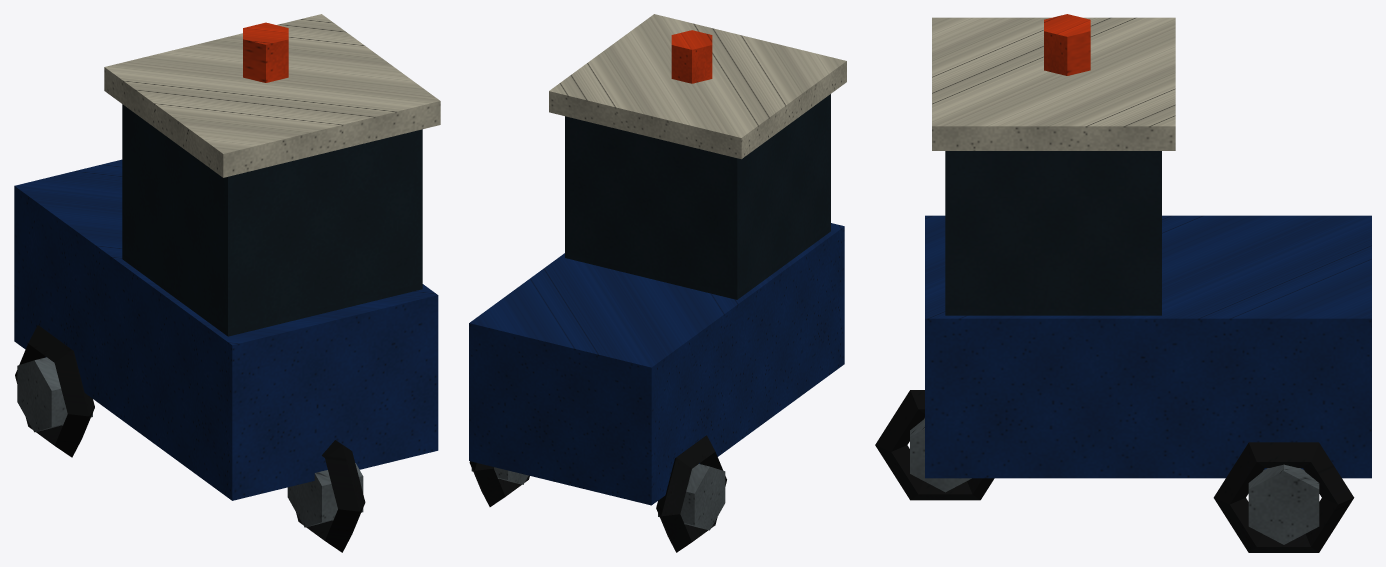
File: PROP-A2548A127159_lod2.glb
3 views of the same model, side by side, from view 1: azimuth 30°, elevation 25°; view 2: azimuth 150°, elevation 25°; view 3: azimuth 270°, elevation 25° (orthographic). The views are drawn at different scales.
Visible parts, largest first — view 1: trike_body.001, trike_cabin.001, trike_roof.001, tire.001, rim.001, amber_beacon.001; view 2: trike_body.001, trike_cabin.001, trike_roof.001, tire.001, rim.001, amber_beacon.001; view 3: trike_body.001, trike_cabin.001, trike_roof.001, tire.001, rim.001, amber_beacon.001.
Boxes of the visible parts, x1,y1,x2,y2 form: trike_body.001: (14, 159, 438, 500); trike_cabin.001: (122, 104, 422, 336); trike_roof.001: (104, 14, 440, 177); tire.001: (15, 325, 365, 552); rim.001: (17, 357, 363, 527); amber_beacon.001: (243, 22, 288, 82); trike_body.001: (469, 223, 844, 505); trike_cabin.001: (565, 94, 830, 299); trike_roof.001: (549, 14, 846, 159); tire.001: (469, 435, 726, 552); rim.001: (471, 464, 725, 530); amber_beacon.001: (671, 30, 712, 83); trike_body.001: (925, 215, 1371, 478); trike_cabin.001: (945, 151, 1161, 315); trike_roof.001: (932, 17, 1175, 150); tire.001: (875, 390, 1354, 552); rim.001: (910, 418, 1319, 544); amber_beacon.001: (1044, 14, 1090, 75).
Size of the model in its own units: 1.1 by 1.94 by 1.83.
Materials: 6 (6 with a texture image).
